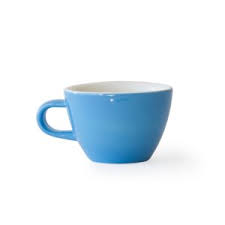cup: (28, 77, 179, 167)
